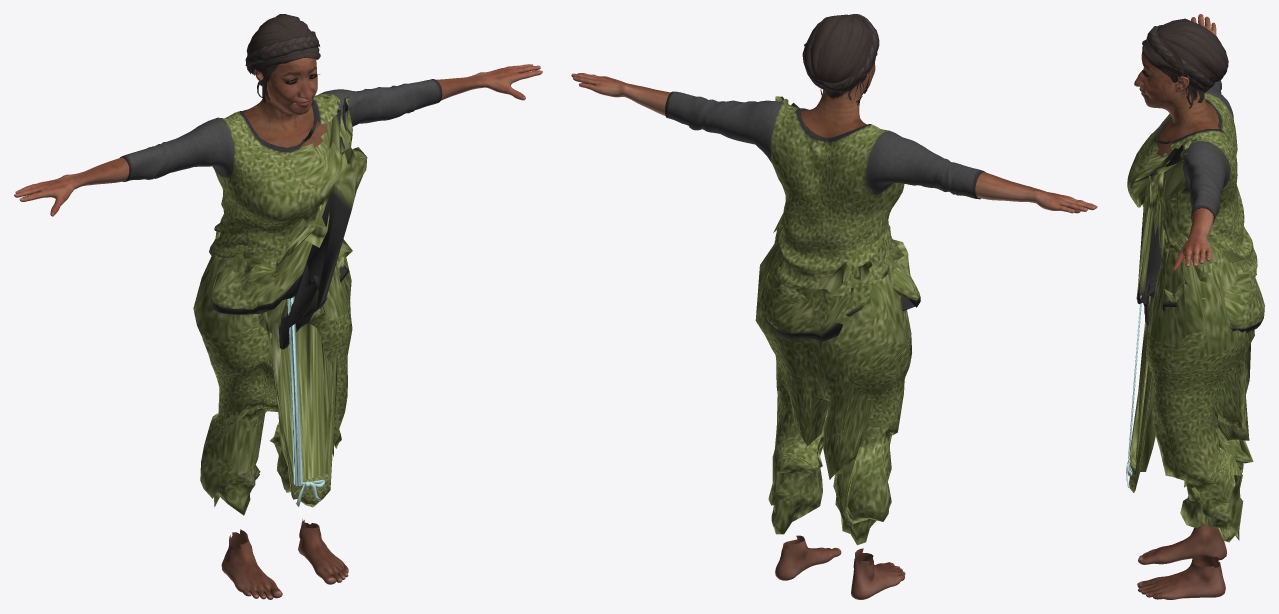
Rendered from SareeWoman.obj.
3 views of the same model, side by side, from view 1: azimuth 30°, elevation 25°; view 2: azimuth 150°, elevation 25°; view 3: azimuth 270°, elevation 25° (orthographic).
Visible parts, largest first — view 1: Tops, Bottoms, Body, Hair; view 2: Tops, Bottoms, Body, Hair; view 3: Bottoms, Tops, Body, Hair.
Part boxes in pixels (left/top/right/bottom): Tops: left=120, top=79, right=442, bottom=349; Bottoms: left=193, top=244, right=352, bottom=515; Body: left=14, top=58, right=542, bottom=599; Hair: left=245, top=14, right=320, bottom=103; Tops: left=665, top=91, right=985, bottom=341; Bottoms: left=755, top=241, right=911, bottom=545; Body: left=571, top=64, right=1097, bottom=599; Hair: left=802, top=14, right=879, bottom=105; Bottoms: left=1126, top=247, right=1256, bottom=542; Tops: left=1127, top=80, right=1264, bottom=332; Body: left=1134, top=14, right=1226, bottom=599; Hair: left=1142, top=18, right=1228, bottom=108.
Bounding box in the file's own units: 166 × 169 × 38.44.
1 material, 1 textured.
